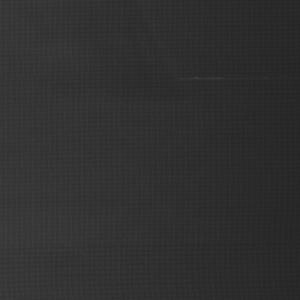Wrinkle: (118, 1, 300, 109)
